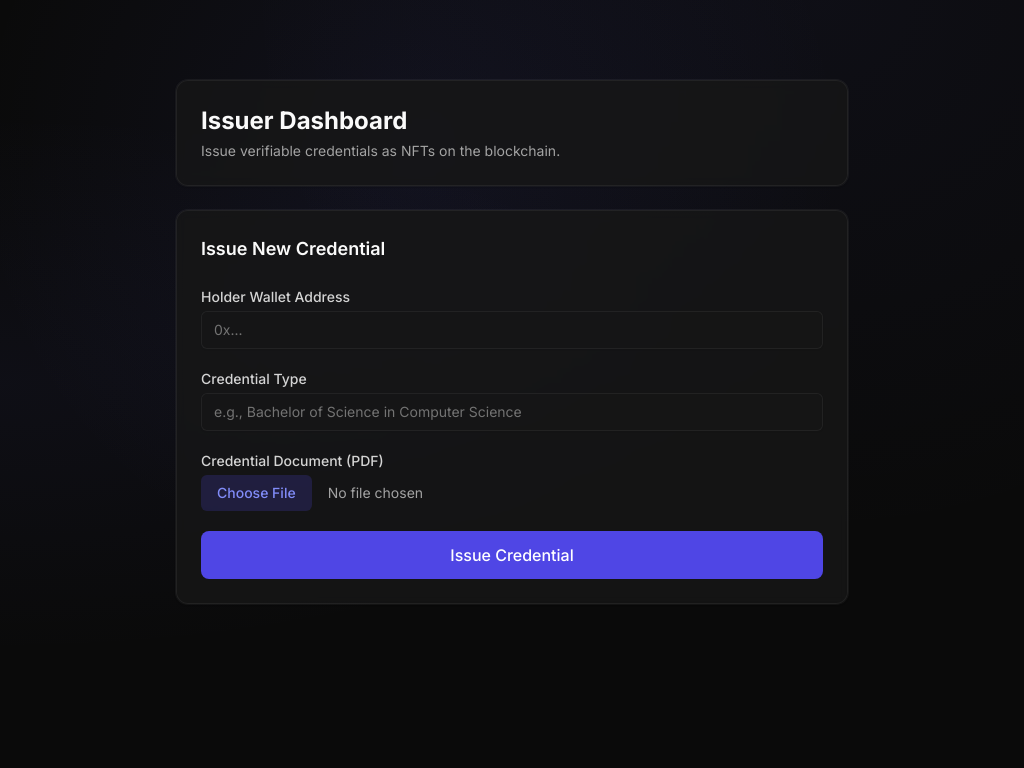
IssuerDashboardPage › shows error when credential type is empty
The image size is (1024, 768).
Type "0x1234567890abcdef1234567890abcdef12345678" into the field labelled "Holder Wallet Address" at {"x": 512, "y": 330}, box [201, 311, 823, 349]
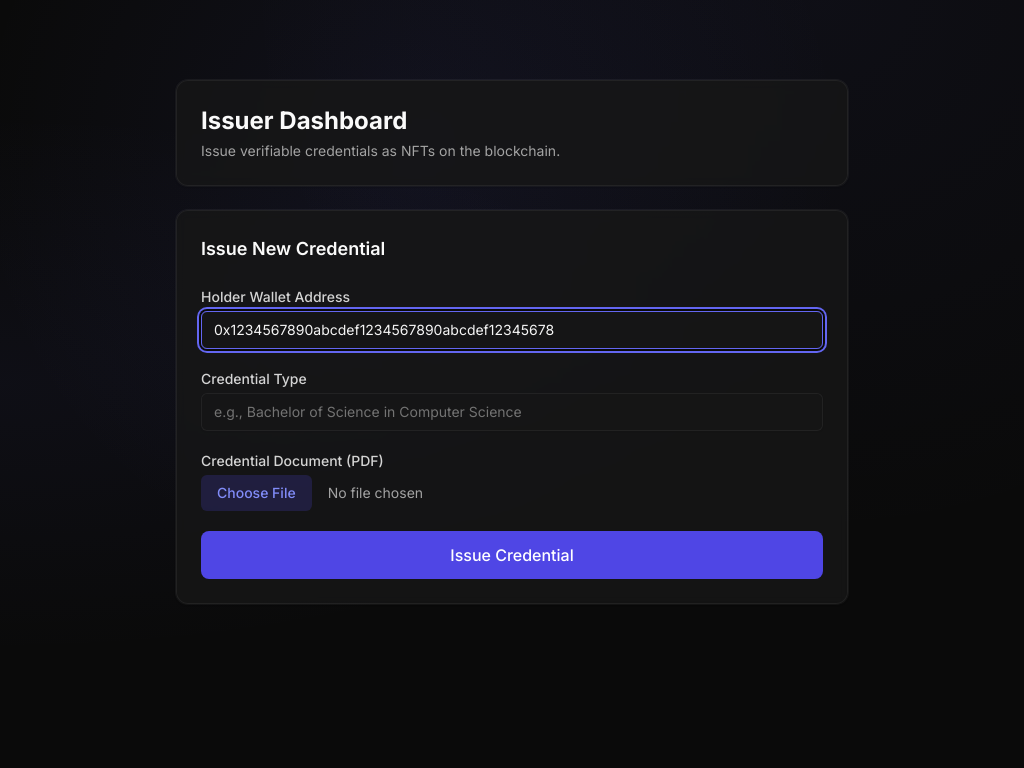
Click the button "Issue Credential" at {"x": 512, "y": 555}, box [201, 531, 823, 579]
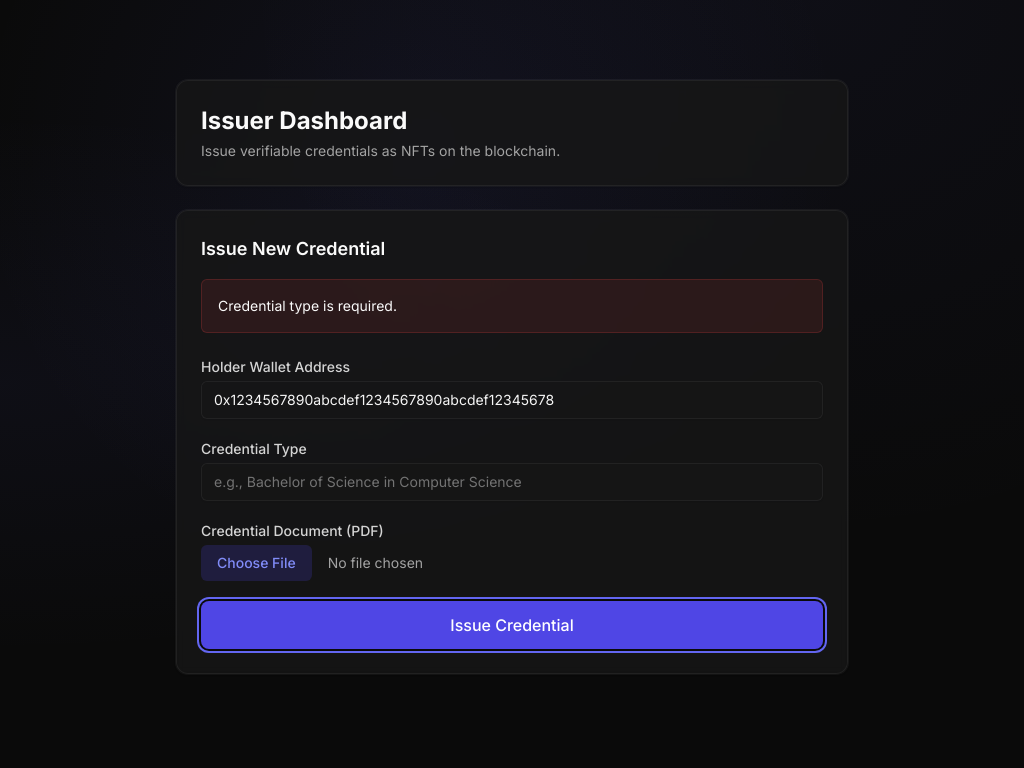
Now the message reads "Credential type is required.", box [218, 297, 397, 314]
